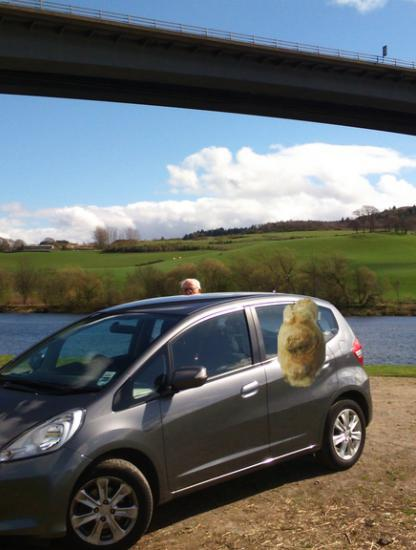Ginger: (255, 296, 348, 389)
